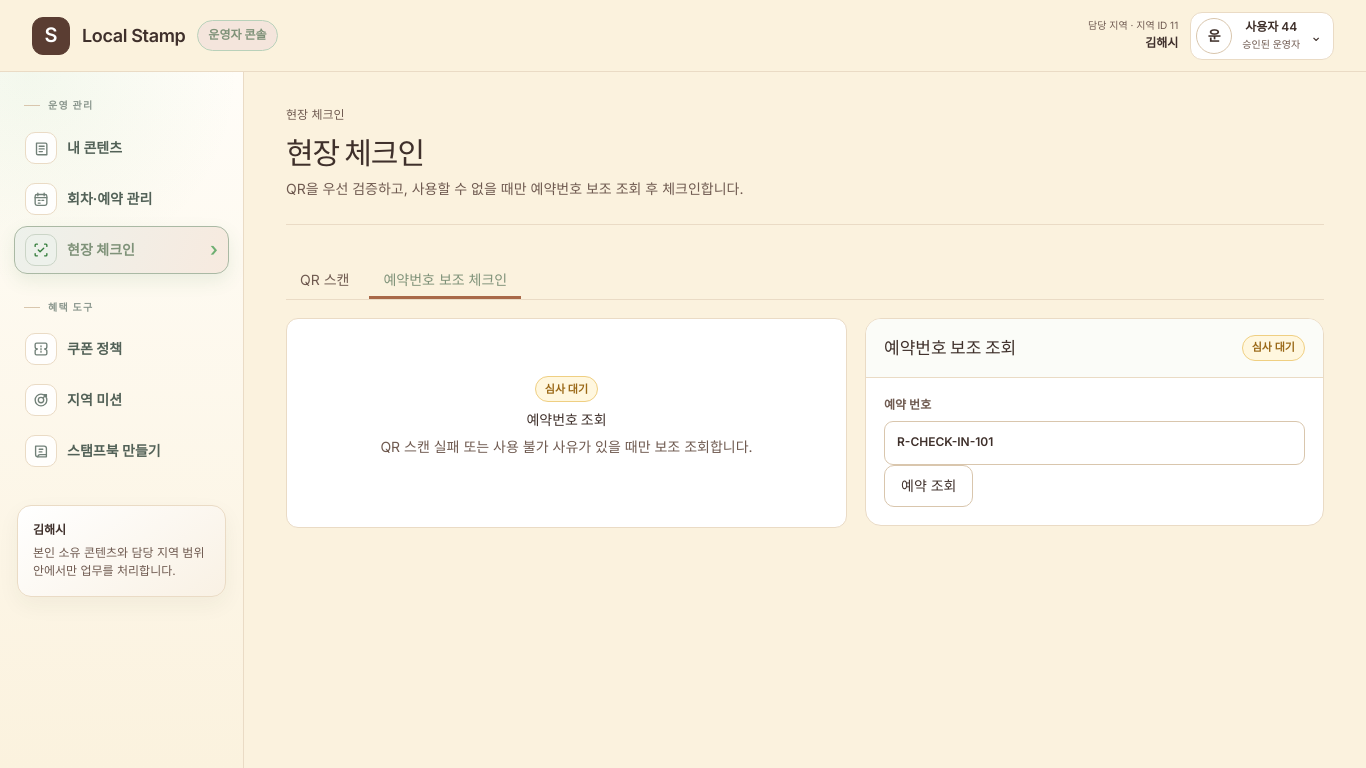
Test case: 운영자 결제 조회·체크인 프론트 흐름 › 수동 체크인은 계약된 사유를 보내고 연속 클릭을 한 요청으로 제한한다
The image size is (1366, 768).
Click the button "예약 조회" at (929, 486), box [884,465,974,507]
(page scrolled)
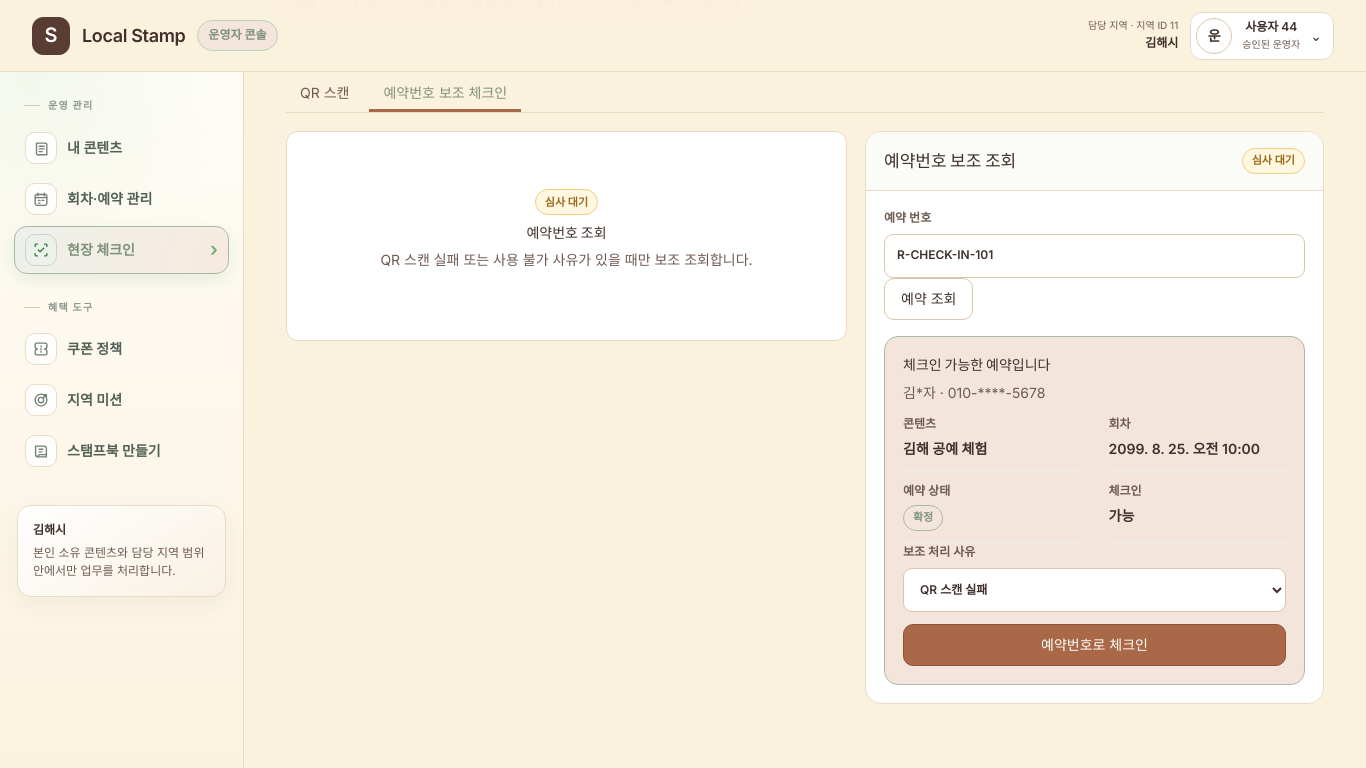
Select "QR 사용 불가" in the dropdown labelled "보조 처리 사유" at (1094, 590), box [903,568,1286,612]
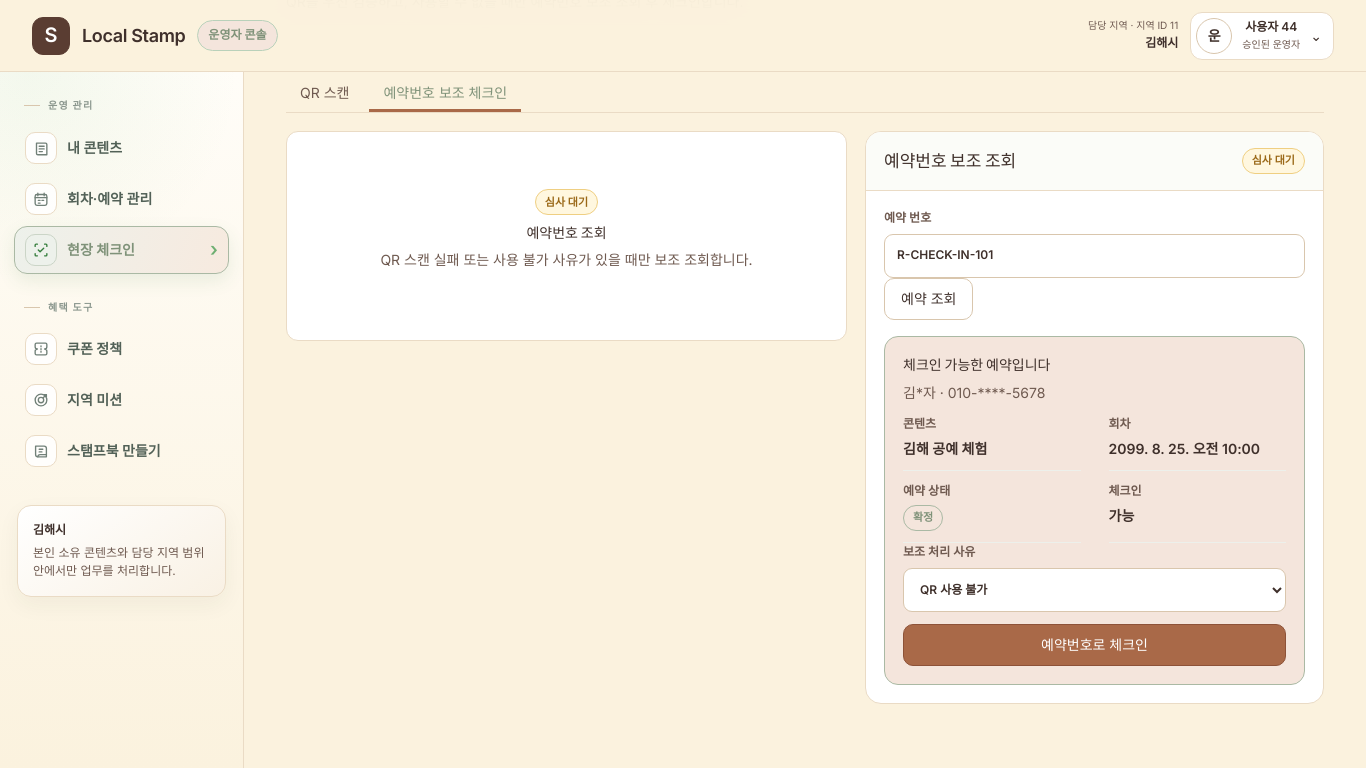
Click the button "예약번호로 체크인" at (1094, 645), box [903,624,1286,666]
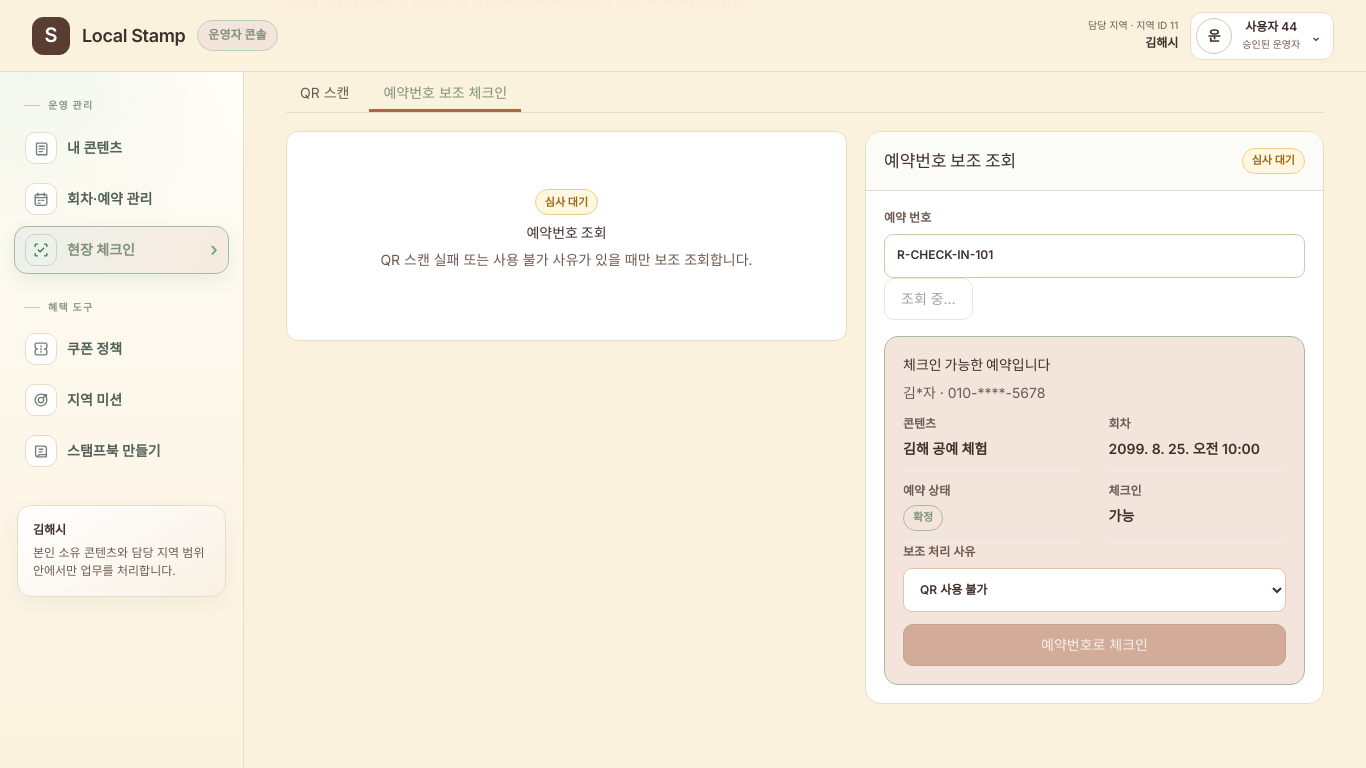
Click the button "예약번호로 체크인" at (1094, 645), box [903,624,1286,666]
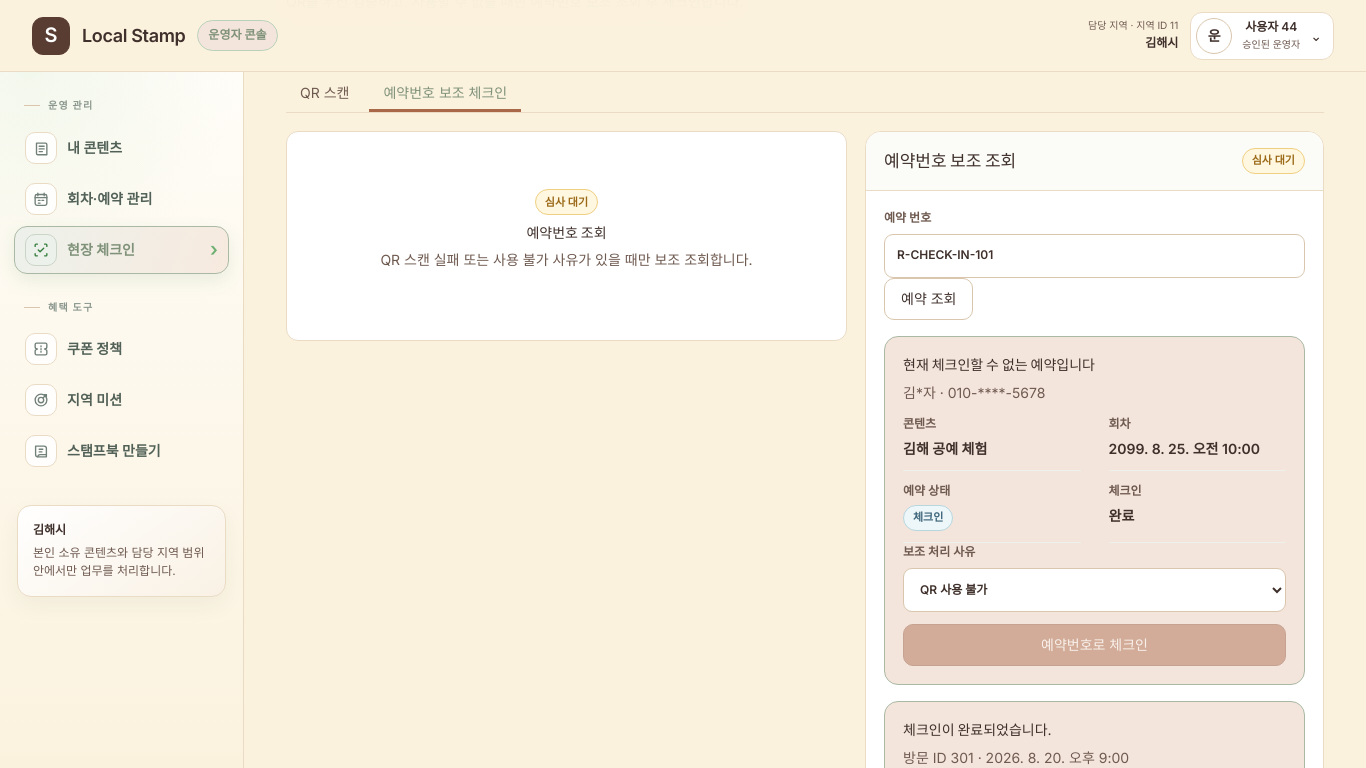
Now the text "김*자 · 010-****-5678" is shown, box [903,384,1045,401]
Now the button "예약번호로 체크인" is disabled, box [903,624,1286,666]
Now the heading "체크인이 완료되었습니다." is shown, box [903,721,1052,739]
